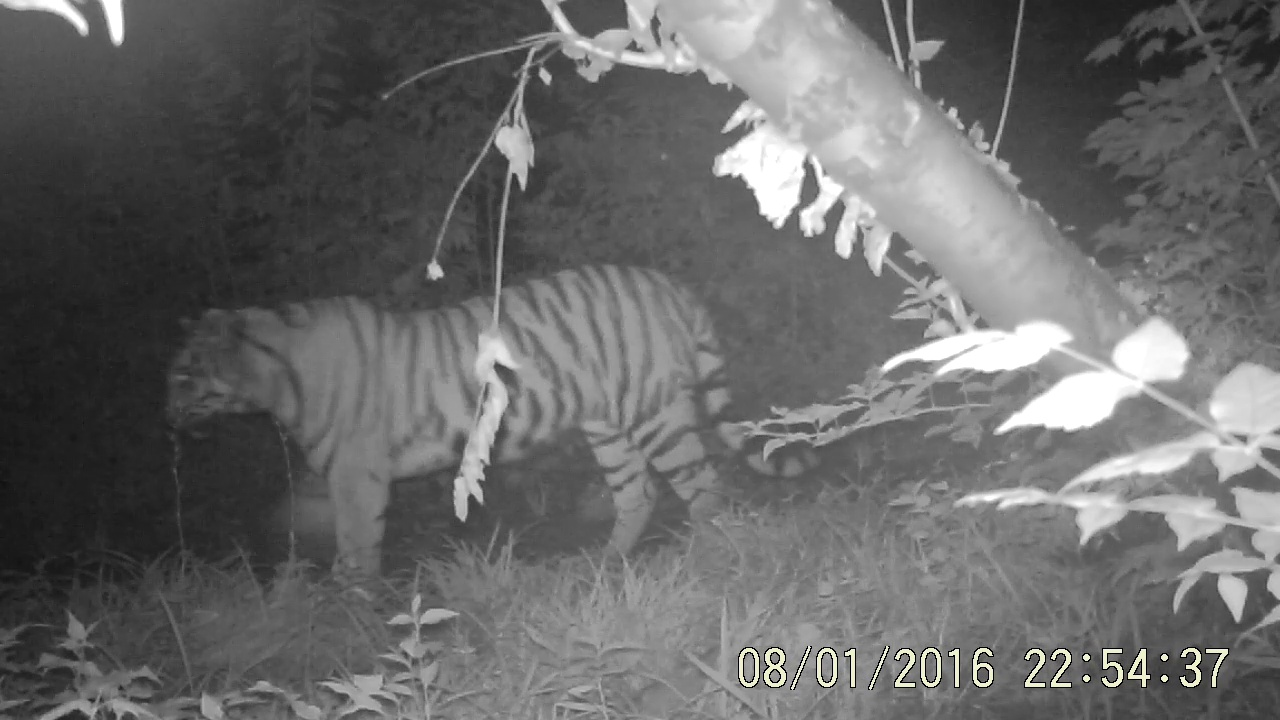Tiger: (143, 130, 998, 604)
